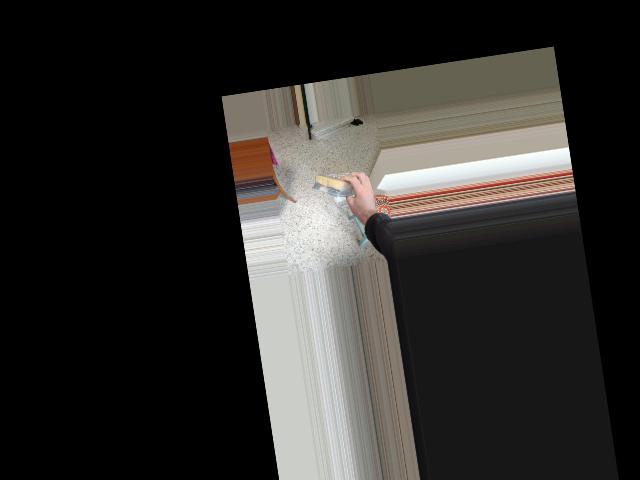cheese: (308, 167, 373, 203)
